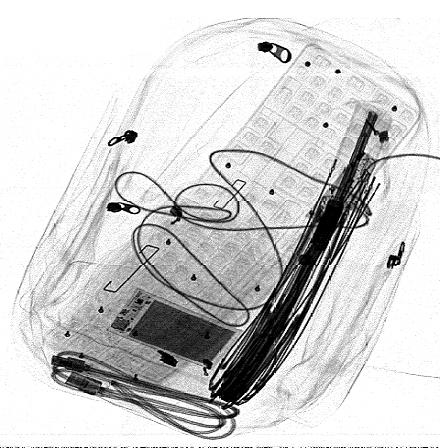Powerbank: (105, 287, 243, 371)
